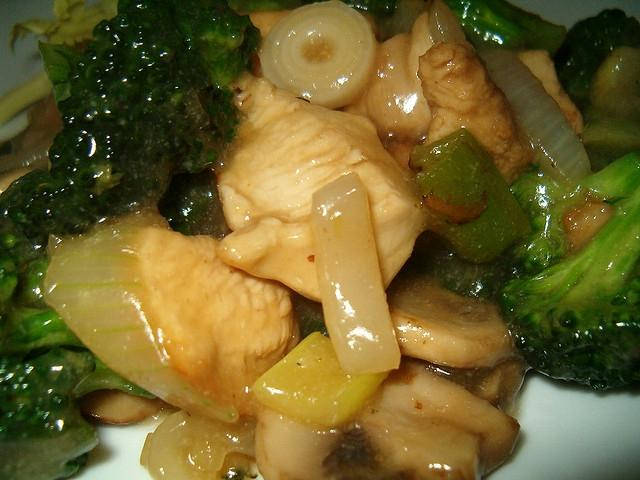broccoli: (434, 151, 640, 298), (495, 184, 639, 394), (0, 348, 155, 479), (0, 169, 99, 370), (551, 8, 640, 114), (159, 169, 233, 240), (434, 0, 528, 51)
mushroom: (254, 357, 522, 480), (386, 274, 518, 370), (78, 388, 170, 426)
onion: (42, 214, 240, 423), (311, 172, 401, 374), (476, 51, 594, 188), (343, 12, 434, 167), (262, 0, 378, 109), (140, 408, 259, 480), (428, 2, 466, 45)
